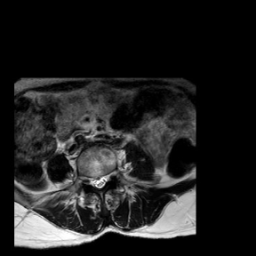CCS_severe_stenosis: (96, 168, 102, 194)
LFS_normal: (107, 163, 112, 183)
LLS_normal: (102, 168, 107, 190)
RFS_normal: (84, 168, 90, 188)
RLS_normal: (90, 167, 96, 192)
